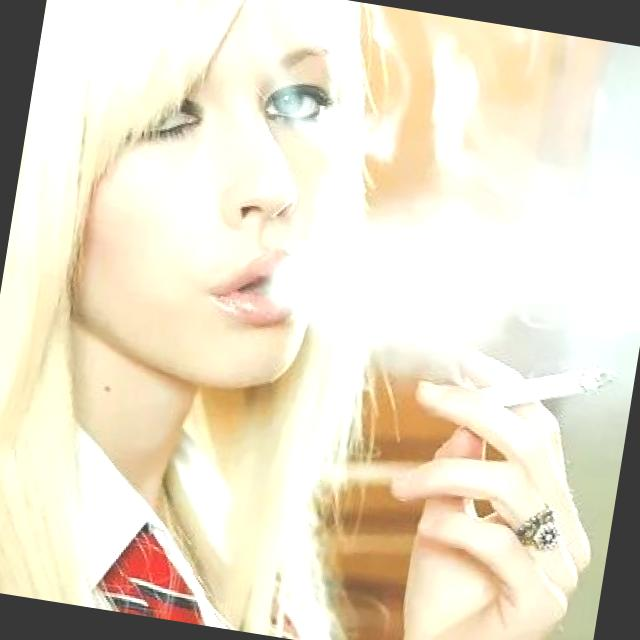cigarette: (466, 344, 624, 430)
